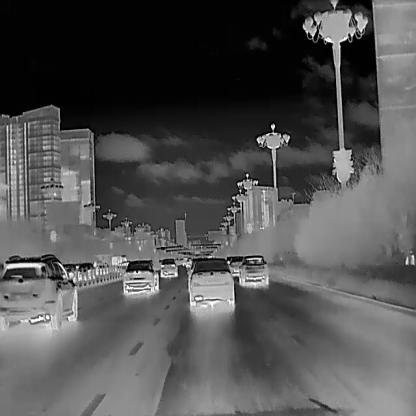car: (0, 253, 77, 330), (186, 259, 234, 305), (123, 260, 158, 295), (238, 254, 271, 288), (159, 257, 178, 277), (228, 255, 243, 276), (77, 264, 96, 280)
